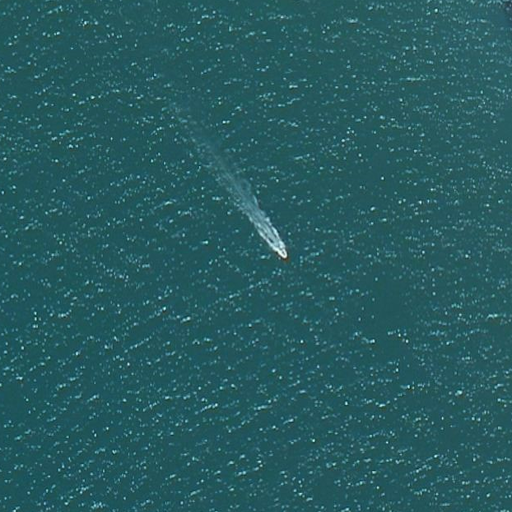ship: (274, 246, 289, 261)
